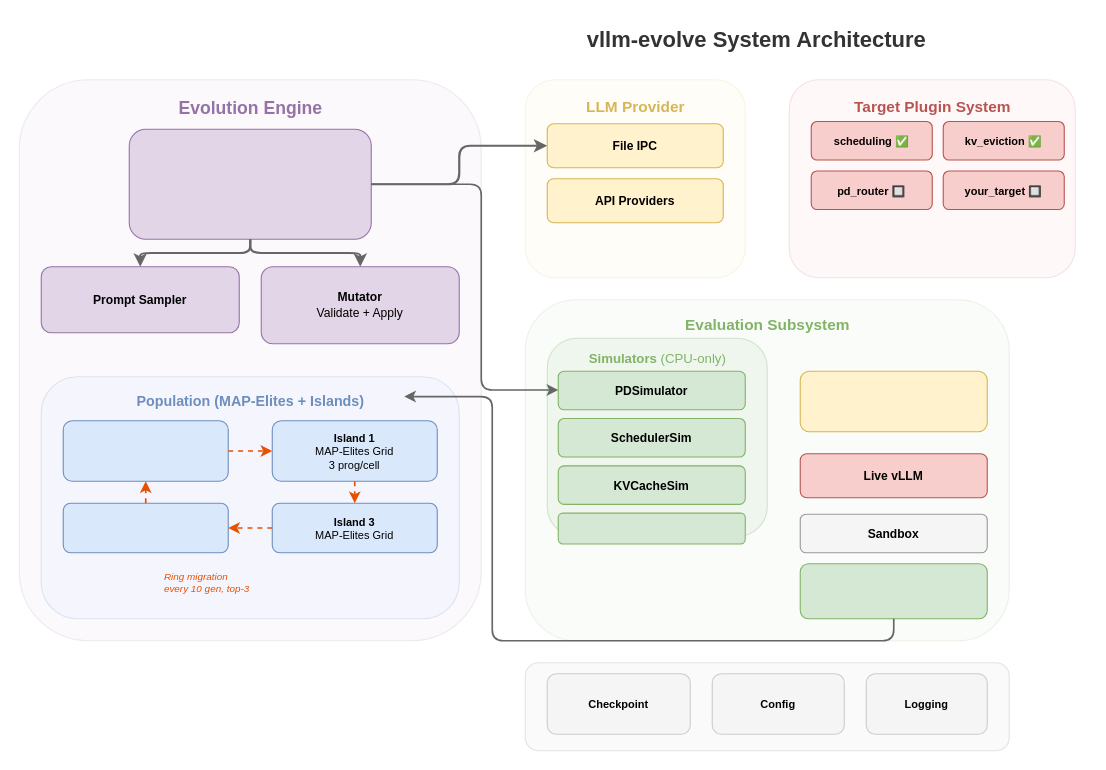
This 1106x770 diagram has some shape labels left out. Each missing label, with the centre of its shape:
"Cascade Sim → Live" belongs at point (893, 401).
"Controller" belongs at point (249, 183).
"Fitness Ratio-to-seed" belongs at point (893, 591).
"Island 0 MAP-Elites Grid 3 prog/cell" belongs at point (145, 450).
"Island 2 MAP-Elites Grid" belongs at point (145, 527).
"RouterSim" belongs at point (651, 528).
